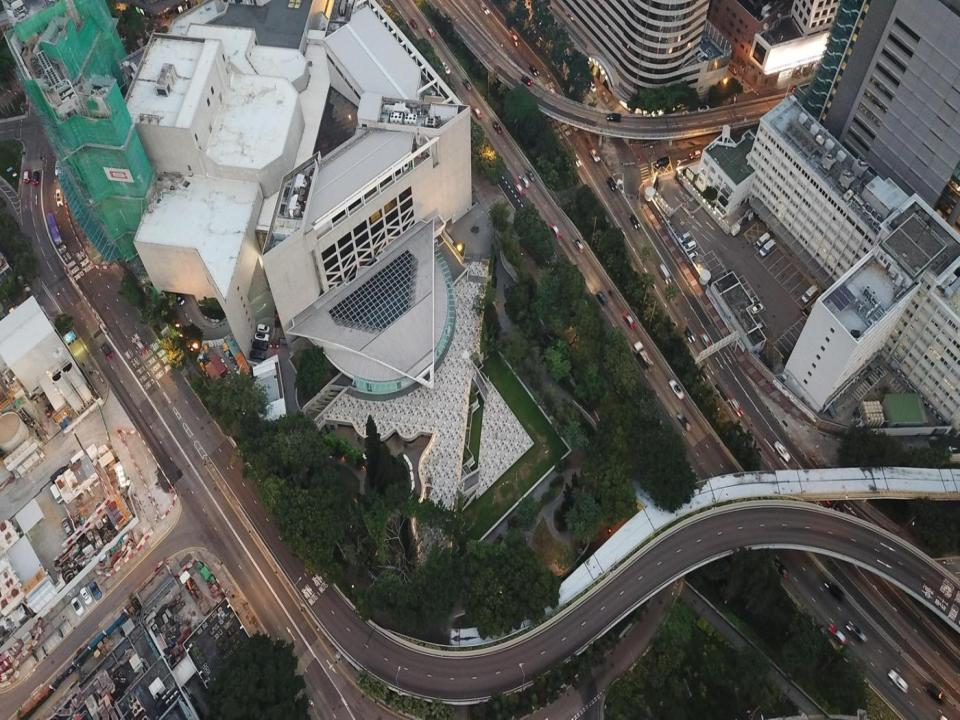car: (888, 668, 909, 692), (828, 623, 848, 645), (824, 580, 844, 601), (846, 622, 867, 642), (925, 682, 945, 702), (668, 378, 684, 399), (728, 396, 744, 416), (774, 441, 790, 461), (677, 412, 692, 431), (70, 596, 84, 616), (774, 559, 788, 578), (622, 310, 636, 329), (79, 586, 92, 605), (89, 581, 102, 600), (699, 331, 712, 348), (548, 223, 561, 238), (683, 326, 695, 342), (135, 340, 148, 354), (746, 295, 759, 308), (607, 176, 618, 191), (249, 349, 265, 359), (514, 180, 524, 196), (518, 174, 530, 187), (102, 344, 113, 358), (254, 332, 269, 342), (590, 148, 600, 163), (252, 340, 268, 349), (524, 168, 536, 180), (751, 304, 763, 316), (629, 215, 640, 228), (528, 64, 539, 77), (462, 78, 473, 90), (440, 61, 451, 73), (472, 106, 482, 119), (175, 292, 184, 306), (689, 150, 704, 158), (492, 122, 502, 134), (480, 2, 490, 14), (521, 75, 532, 85), (727, 65, 738, 75), (426, 26, 435, 38), (512, 33, 520, 46), (790, 84, 802, 92), (32, 172, 39, 185), (697, 105, 710, 112), (409, 20, 417, 28)
truck: (45, 213, 67, 251), (633, 341, 653, 371), (756, 232, 770, 248)
van: (801, 285, 818, 303), (759, 239, 776, 256), (659, 263, 671, 283), (572, 237, 584, 253), (682, 240, 696, 252), (655, 156, 670, 166), (606, 112, 621, 122), (596, 292, 607, 305), (56, 188, 63, 206), (679, 233, 690, 244), (257, 324, 270, 332), (588, 82, 596, 94), (23, 170, 30, 183), (687, 252, 697, 260)
